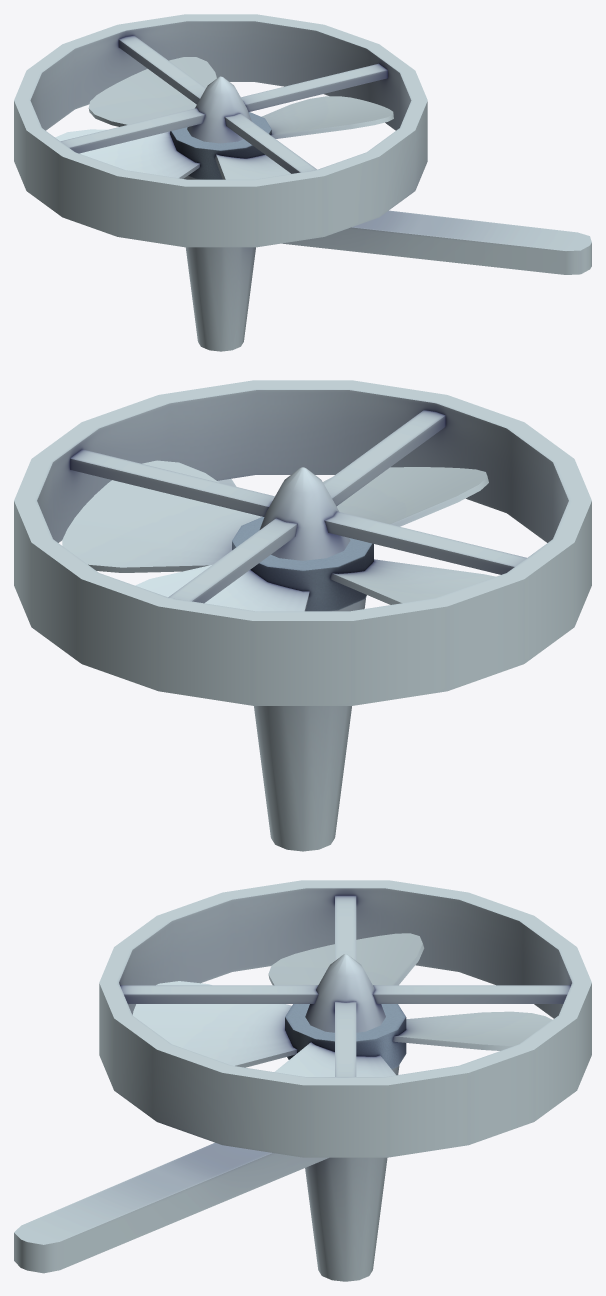
Rendered from dubai_stage_propeller.fbx.
3 renders of one model, top to bottom at view 1: azimuth 30°, elevation 25°; view 2: azimuth 150°, elevation 25°; view 3: azimuth 270°, elevation 25°, orthographic. The views are drawn at different scales.
Visible parts, largest first — view 1: Plane.022, Cylinder.049; view 2: Plane.022, Cylinder.049; view 3: Plane.022, Cylinder.049.
Boxes of the visible parts, <box> form: Plane.022: <box>14,14,591,351</box>; Cylinder.049: <box>55,57,393,179</box>; Plane.022: <box>14,380,591,851</box>; Cylinder.049: <box>62,460,495,611</box>; Plane.022: <box>14,880,591,1281</box>; Cylinder.049: <box>132,933,552,1076</box>.
Size of the model in its own units: 4128 by 2501 by 4145.
1 material, 1 textured.
